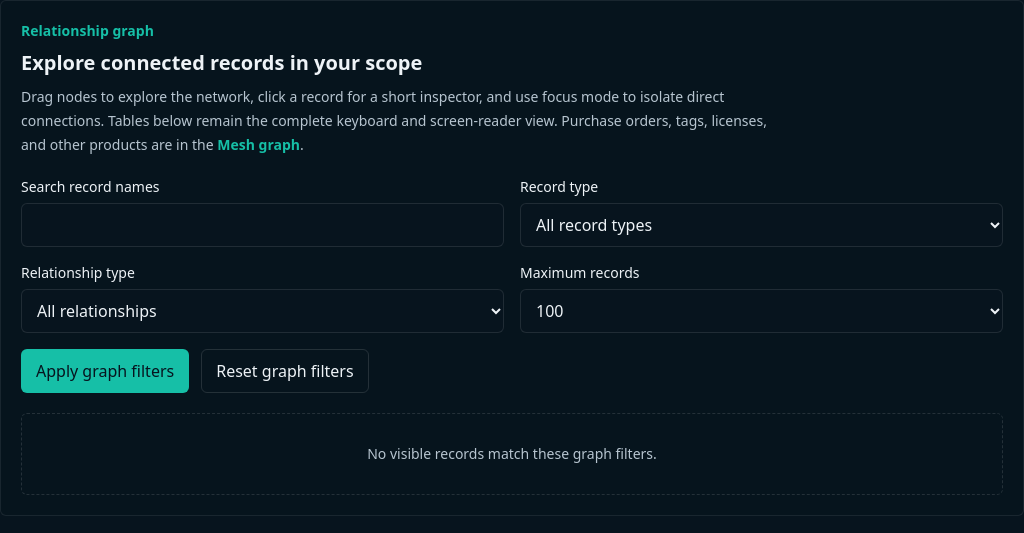
Test case: renders a stable empty state and resets filters
Expected: the text "No visible records match these graph filters." is shown, [21,413,1003,495]
In the search field labelled "Search record names": (262, 225) [21,203,504,247], type "missing"
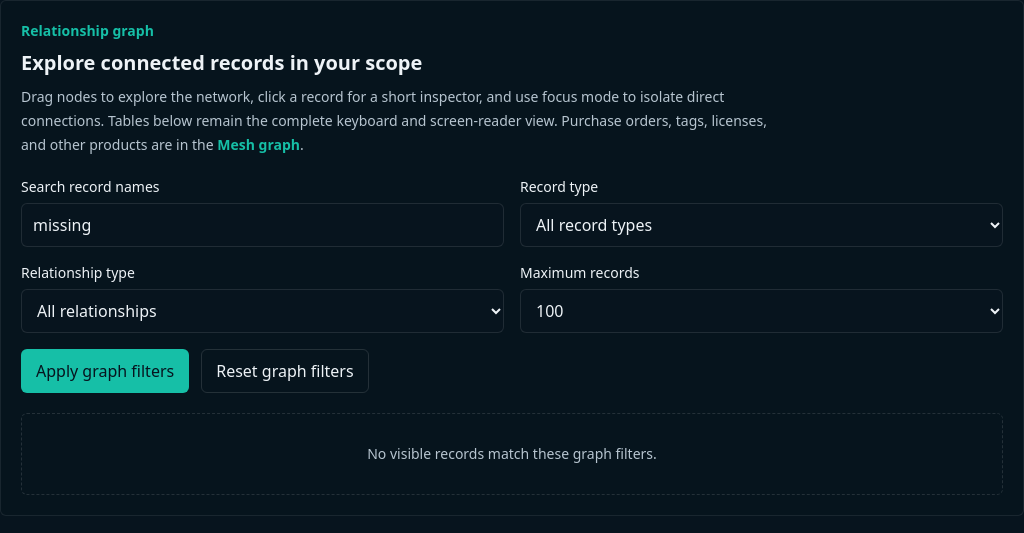
Click the button "Reset graph filters": (285, 371) [201,349,369,393]
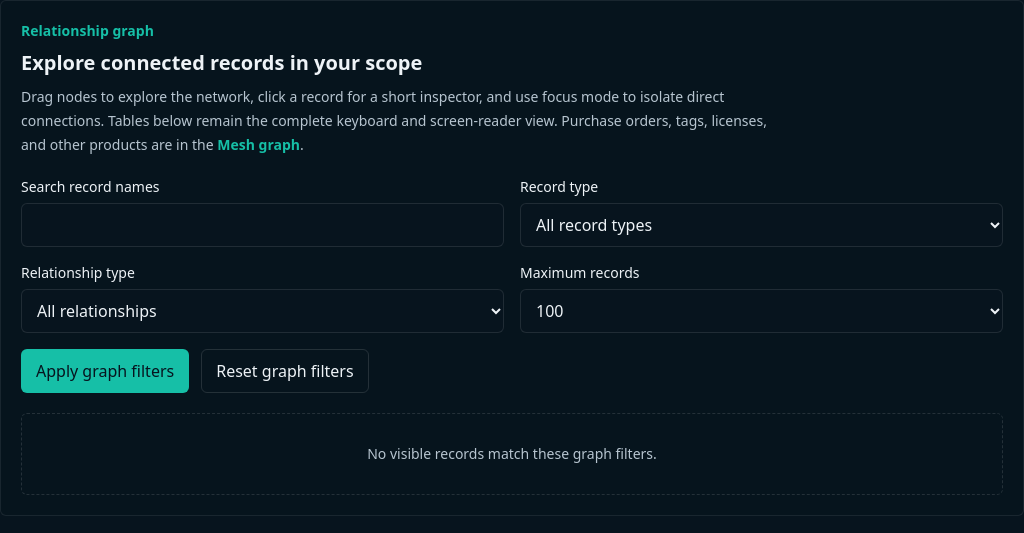
Result: the search field labelled "Search record names" is empty at [21,203,504,247]
